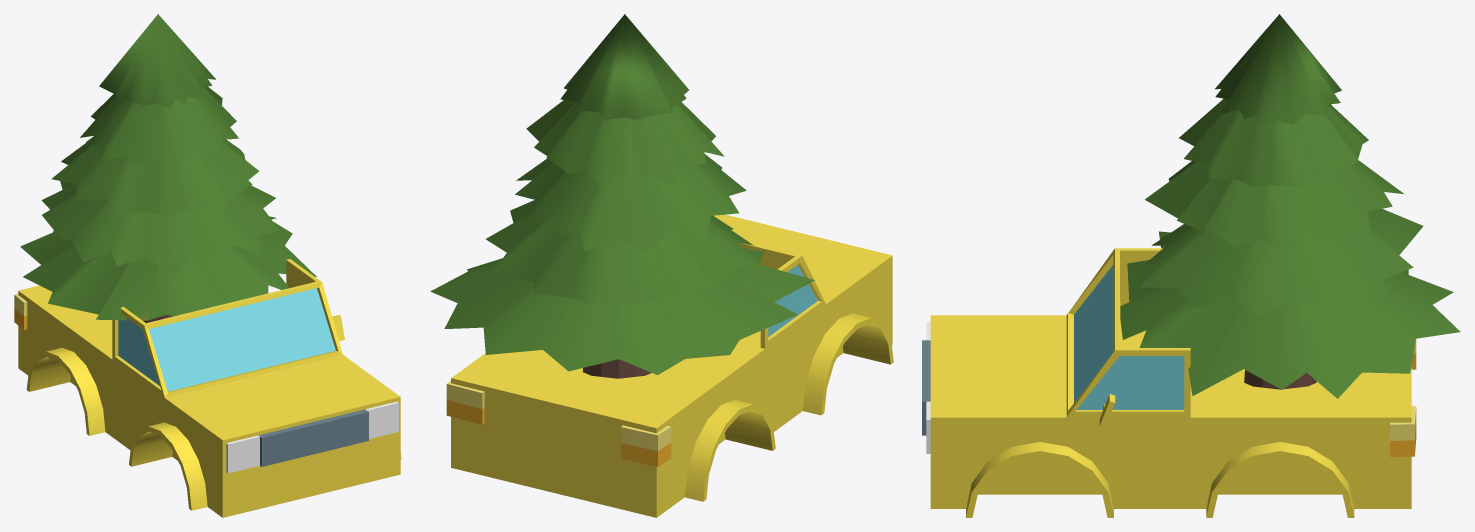
Rendered from yellow_car.fbx.
3 renders of one model, left to right at view 1: azimuth 30°, elevation 25°; view 2: azimuth 150°, elevation 25°; view 3: azimuth 270°, elevation 25°, orthographic. The views are drawn at different scales.
Visible parts, largest first — view 1: car_orange; view 2: car_orange; view 3: car_orange.
Boxes of the visible parts, <box> form: car_orange: <box>14,14,401,517</box>; car_orange: <box>430,14,893,517</box>; car_orange: <box>922,14,1460,517</box>.
Size of the model in its own units: 459 by 600 by 664.
